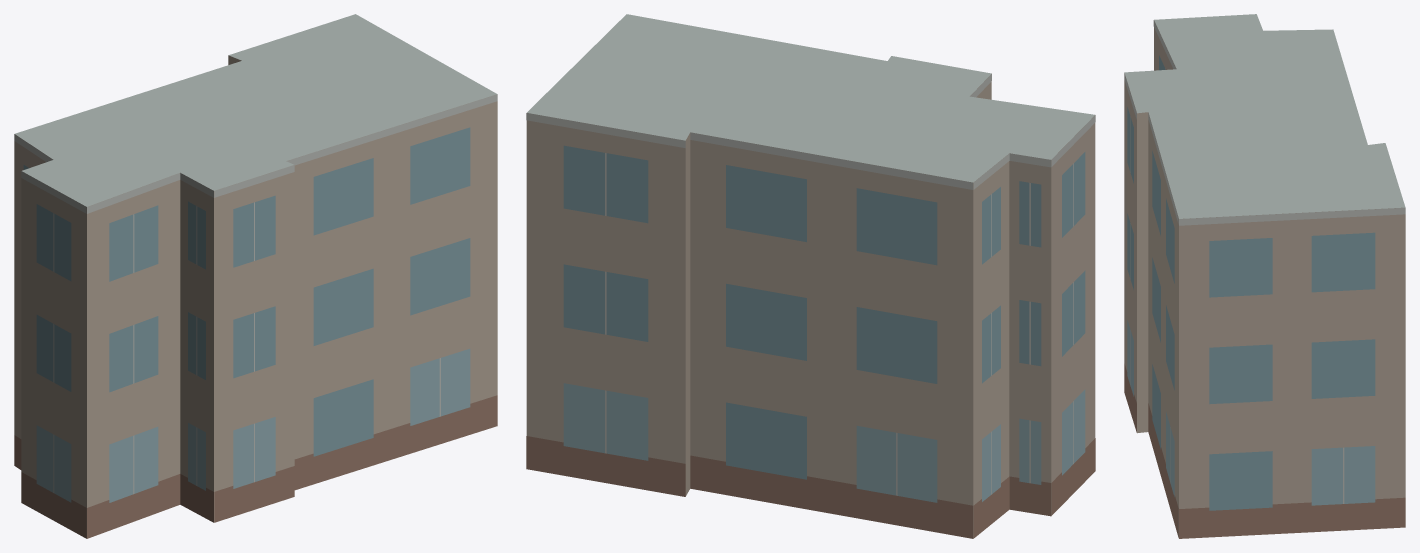
Rendered from survey-upis-32491567.glb.
3 renders of one model, left to right at view 1: azimuth 30°, elevation 25°; view 2: azimuth 150°, elevation 25°; view 3: azimuth 270°, elevation 25°, orthographic. The views are drawn at different scales.
Parts seen in each view (by area): view 1: survey-upis-32491567.tmp; view 2: survey-upis-32491567.tmp; view 3: survey-upis-32491567.tmp.
Boxes of the visible parts, box(x1,y1,x2,y2) form: survey-upis-32491567.tmp: box(14, 14, 497, 538); survey-upis-32491567.tmp: box(526, 14, 1095, 538); survey-upis-32491567.tmp: box(1124, 14, 1405, 538).
Bounding box in the file's own units: 15.81 × 11.5 × 9.17.
